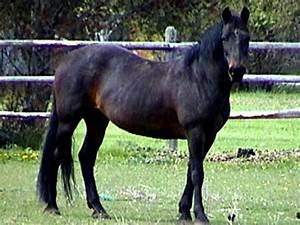horse: (35, 5, 250, 224)
